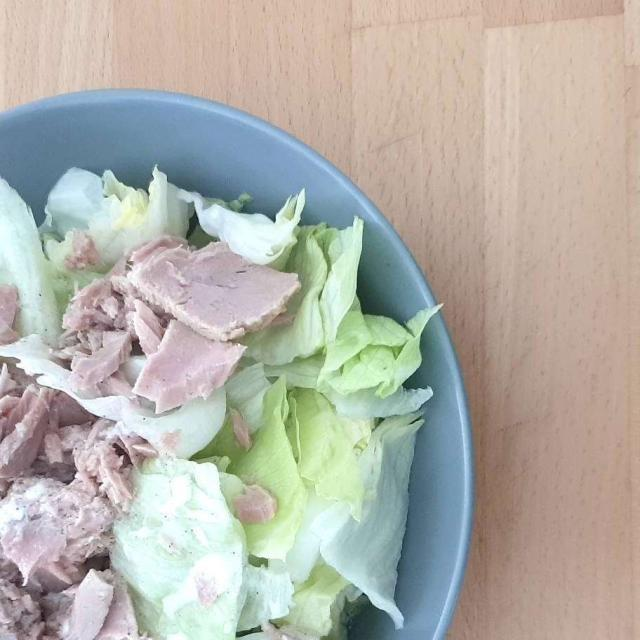salad: (7, 176, 417, 627)
tuna: (19, 245, 265, 631)
